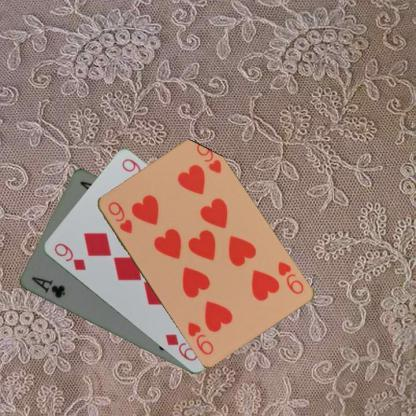9d: (50, 240, 87, 272)
9h: (274, 258, 304, 296), (104, 199, 134, 235)
Ac: (28, 274, 67, 300)
